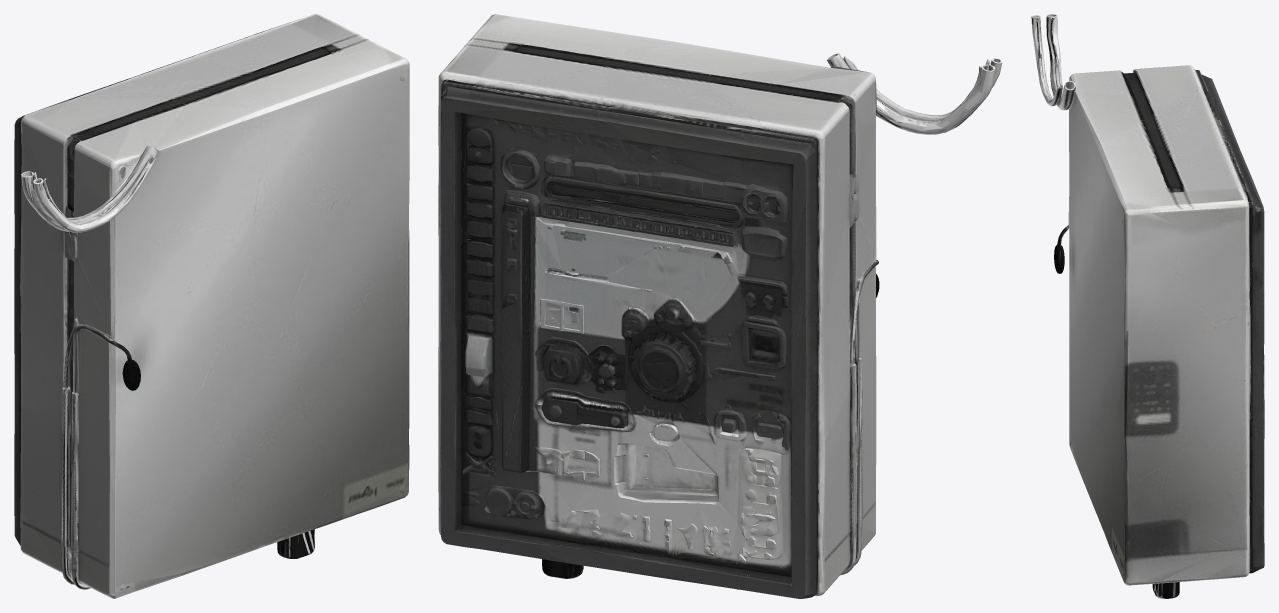
3 views of the same model, side by side, from view 1: azimuth 30°, elevation 25°; view 2: azimuth 150°, elevation 25°; view 3: azimuth 270°, elevation 25° (orthographic). The views are drawn at different scales.
Parts seen in each view (by area): view 1: 0; view 2: 0; view 3: 0.
Part boxes in pixels (bbox=[...]): 0: bbox=[14, 14, 409, 598]; 0: bbox=[438, 14, 1002, 598]; 0: bbox=[1031, 14, 1264, 598].
Bounding box in the file's own units: 0.8753 × 0.9879 × 0.4771.
1 material, 1 textured.
